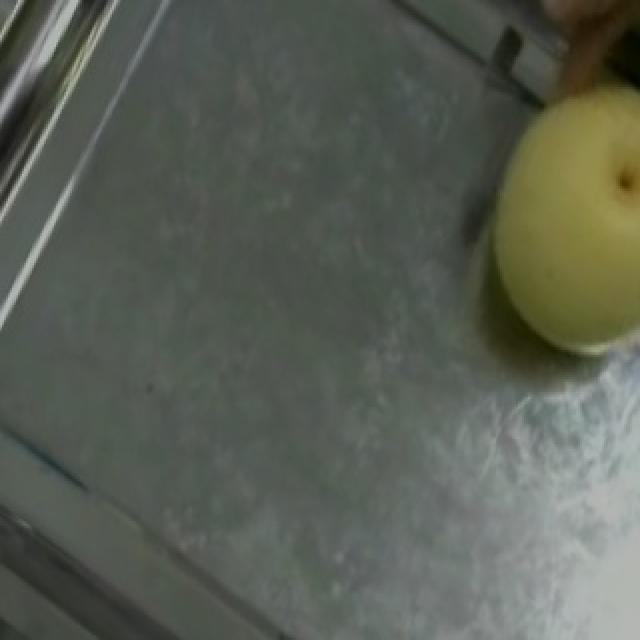Fruit: (440, 44, 640, 394)
